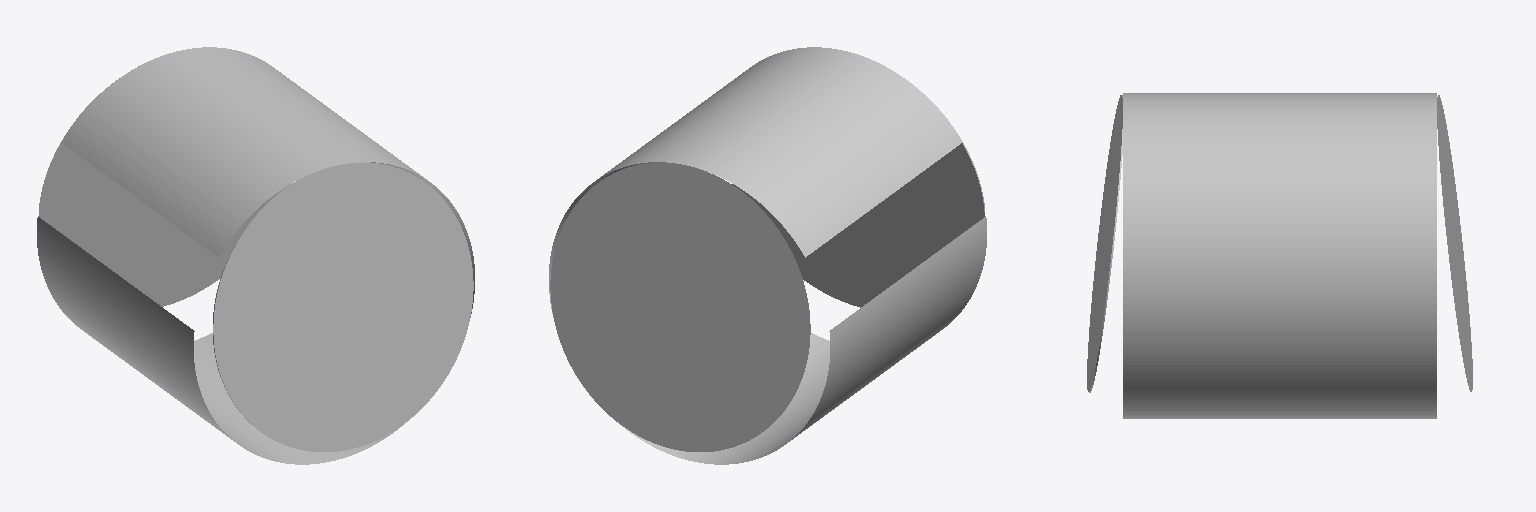
File: plane bend83.obj
3 views of the same model, side by side, from view 1: azimuth 30°, elevation 25°; view 2: azimuth 150°, elevation 25°; view 3: azimuth 270°, elevation 25° (orthographic).
Parts seen in each view (by area): view 1: Circle, Plane, Circle.001; view 2: Circle.001, Plane, Circle; view 3: Plane, Circle, Circle.001.
Boxes of the visible parts, x1,y1,x2,y2 form: Circle: [213, 162, 473, 451]; Plane: [37, 47, 474, 464]; Circle.001: [38, 66, 290, 306]; Circle.001: [550, 163, 810, 451]; Plane: [549, 47, 986, 464]; Circle: [732, 51, 985, 307]; Plane: [1123, 93, 1436, 418]; Circle: [1087, 95, 1122, 392]; Circle.001: [1437, 95, 1472, 391].
Size of the model in its own units: 2.07 by 2.07 by 2.46.